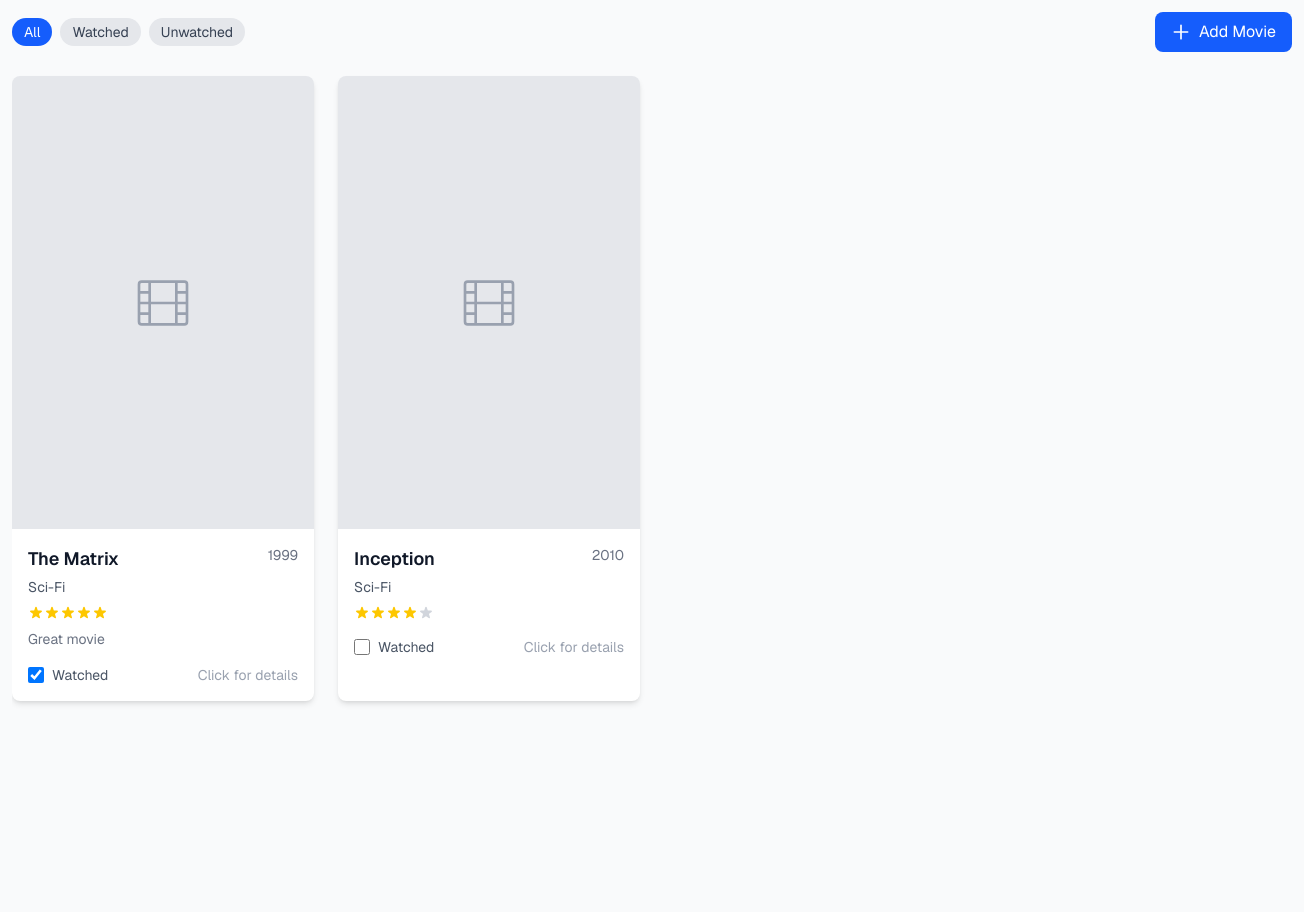
MovieList › filters movies by unwatched status
Expected: the heading "Inception" is shown, [354,545,435,573]
// Click "Unwatched" filter
Click the button "Unwatched".
click(197, 32)  # box [149,18,245,46]
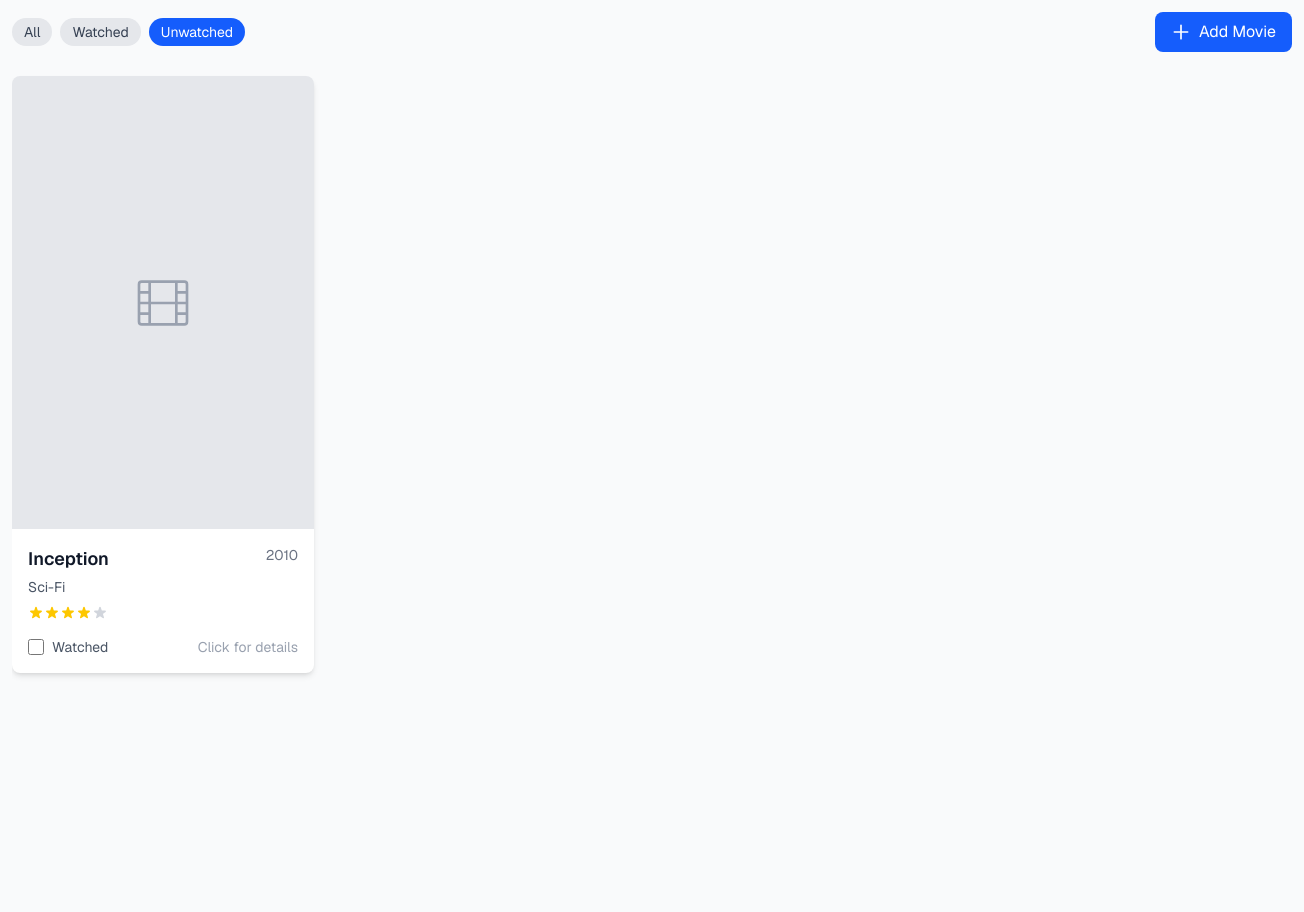
Expected: the heading "Inception" is shown, [28,545,109,573]
Result: the heading "The Matrix" is gone
